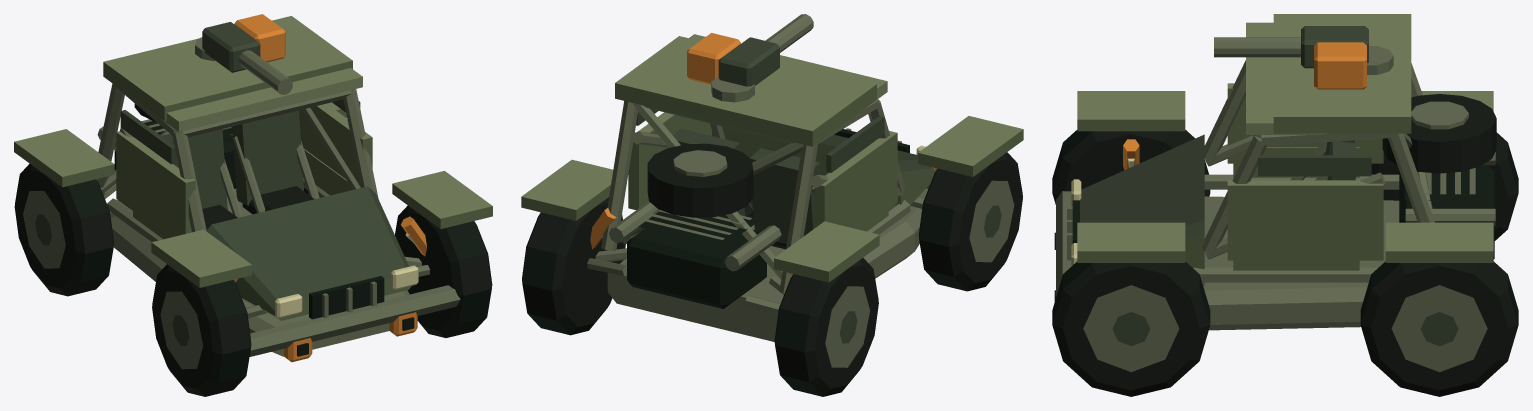
File: buggy_armored.glb
3 renders of one model, left to right at view 1: azimuth 30°, elevation 25°; view 2: azimuth 150°, elevation 25°; view 3: azimuth 270°, elevation 25°, orthographic. The views are drawn at different scales.
Parts seen in each view (by area): view 1: Body, Wheel_-0.85_0.84, Wheel_-0.85_-0.84, Wheel_0.85_-0.84, WeaponPitch; view 2: Body, Wheel_-0.85_-0.84, Wheel_-0.85_0.84, Wheel_0.85_0.84, WeaponPitch; view 3: Body, Wheel_0.85_0.84, Wheel_0.85_-0.84, WeaponPitch, Wheel_-0.85_-0.84, Wheel_-0.85_0.84.
Boxes of the visible parts, bbox=[...] form: Body: bbox=[14, 16, 492, 362]; Wheel_-0.85_0.84: bbox=[14, 163, 113, 296]; Wheel_-0.85_-0.84: bbox=[152, 264, 251, 396]; Wheel_0.85_-0.84: bbox=[395, 205, 492, 337]; WeaponPitch: bbox=[202, 14, 292, 94]; Body: bbox=[521, 34, 1023, 341]; Wheel_-0.85_-0.84: bbox=[918, 152, 1022, 291]; Wheel_-0.85_0.84: bbox=[774, 258, 878, 396]; Wheel_0.85_0.84: bbox=[522, 197, 625, 335]; WeaponPitch: bbox=[687, 14, 813, 86]; Body: bbox=[1054, 14, 1496, 330]; Wheel_0.85_0.84: bbox=[1360, 261, 1518, 396]; Wheel_0.85_-0.84: bbox=[1052, 261, 1210, 396]; WeaponPitch: bbox=[1214, 26, 1368, 89]; Wheel_-0.85_-0.84: bbox=[1052, 130, 1210, 204]; Wheel_-0.85_0.84: bbox=[1371, 132, 1518, 240].
Bounding box in the file's own units: 3.31 × 2.8 × 4.06.
Materials: 1 (1 with a texture image).
